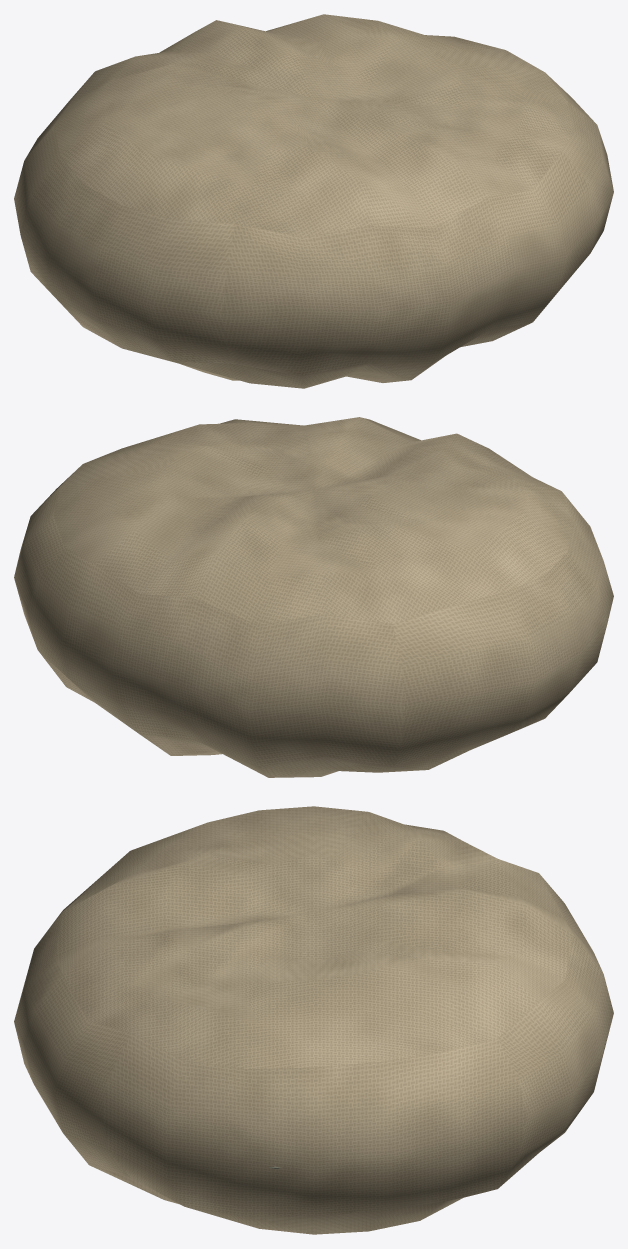
The model's file is CrumpledPillow.fbx.
3 views of the same model, one above another, from view 1: azimuth 30°, elevation 25°; view 2: azimuth 150°, elevation 25°; view 3: azimuth 270°, elevation 25° (orthographic). The views are drawn at different scales.
Parts seen in each view (by area): view 1: CrumpledPillow_Linen; view 2: CrumpledPillow_Linen; view 3: CrumpledPillow_Linen.
Part boxes in pixels (x1=…): CrumpledPillow_Linen: x1=14, y1=14, x2=613, y2=388; CrumpledPillow_Linen: x1=14, y1=417, x2=613, y2=777; CrumpledPillow_Linen: x1=14, y1=806, x2=613, y2=1234.
Size of the model in its own units: 48 by 23.15 by 43.
